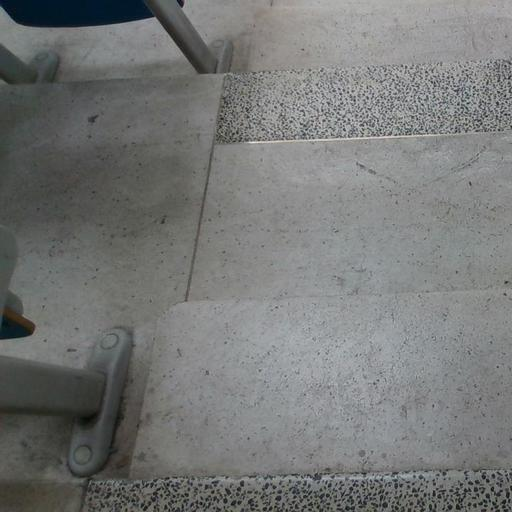stairs: (0, 61, 511, 511), (84, 470, 511, 511)
